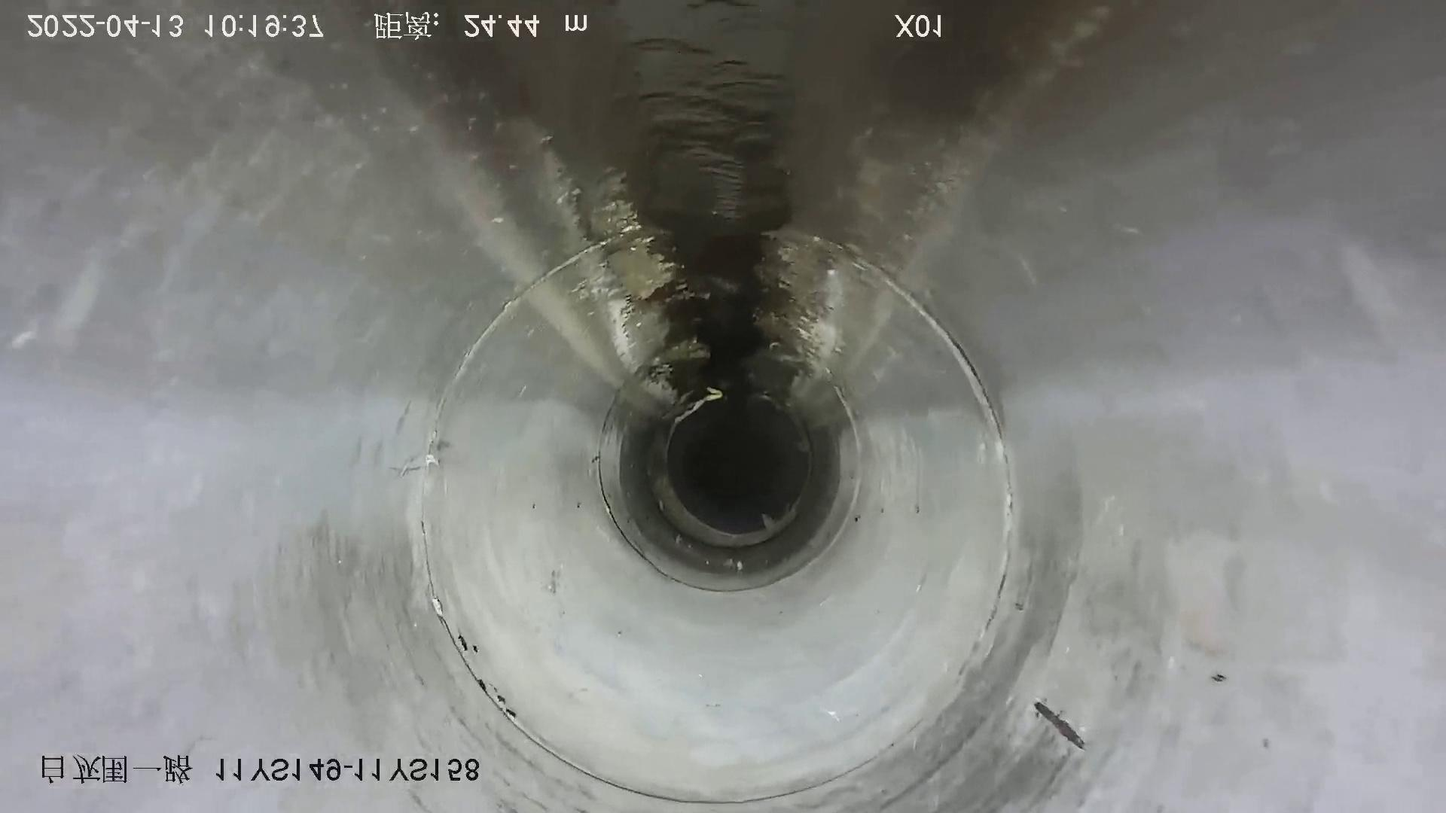CKTJ: (410, 210, 1025, 808)
JG: (579, 196, 721, 409), (746, 232, 890, 399)
